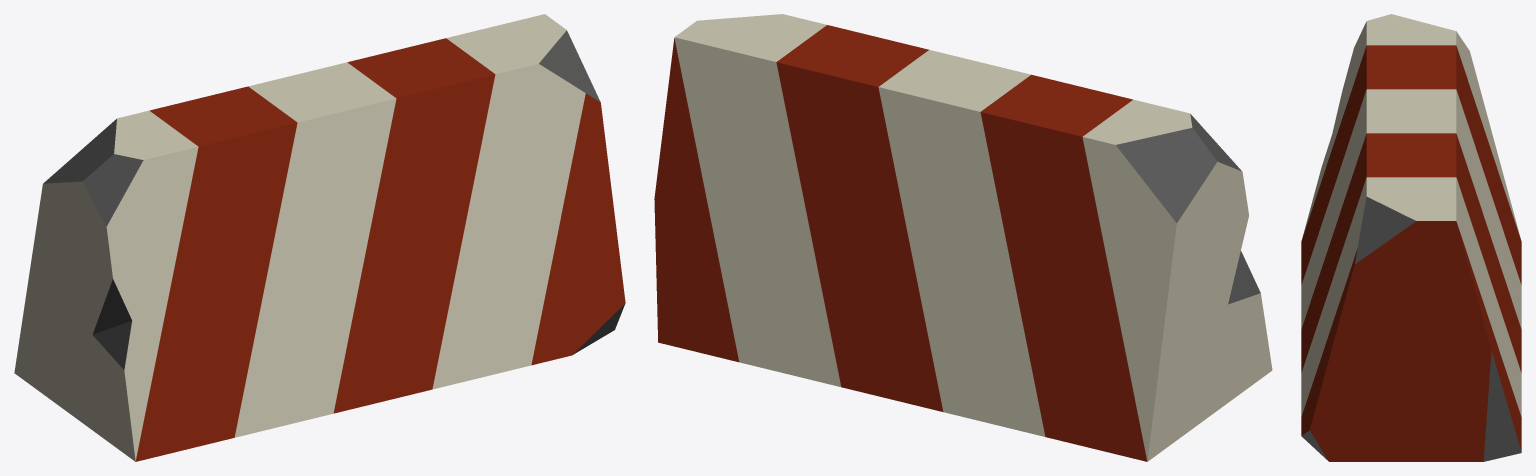
File: LPWarPack_ConcreteRoadBlocker.fbx
3 views of the same model, side by side, from view 1: azimuth 30°, elevation 25°; view 2: azimuth 150°, elevation 25°; view 3: azimuth 270°, elevation 25° (orthographic). The views are drawn at different scales.
Visible parts, largest first — view 1: ConcreteRoadBlocker; view 2: ConcreteRoadBlocker; view 3: ConcreteRoadBlocker.
Part boxes in pixels (x1,y1,x2,y2): ConcreteRoadBlocker: (14, 14, 625, 461); ConcreteRoadBlocker: (654, 14, 1272, 461); ConcreteRoadBlocker: (1301, 14, 1521, 461).
Size of the model in its own units: 133 by 68.02 by 56.47.
